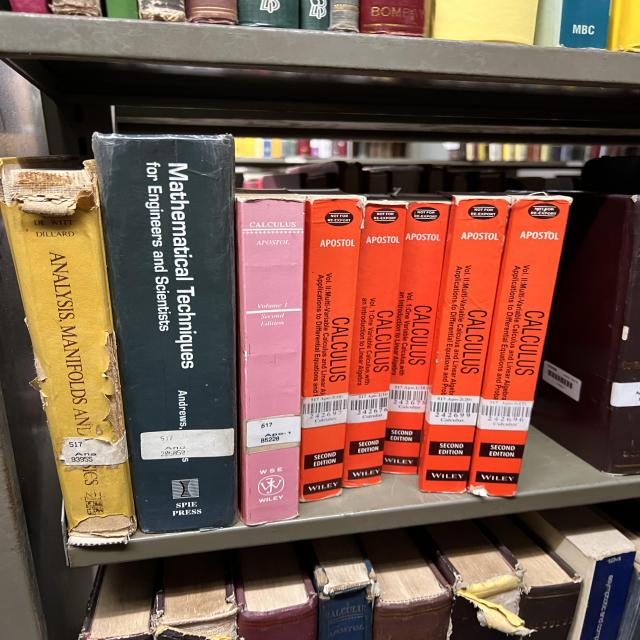Book: (93, 134, 238, 532), (0, 156, 137, 545), (468, 195, 572, 496), (418, 195, 510, 492), (235, 194, 305, 525), (300, 195, 363, 501), (382, 196, 450, 474), (343, 200, 407, 488), (518, 506, 635, 640), (477, 516, 582, 640), (427, 520, 533, 636), (360, 529, 452, 640), (235, 544, 317, 640), (312, 536, 375, 640), (78, 560, 157, 640), (160, 552, 237, 626), (432, 0, 538, 45), (533, 0, 610, 49), (360, 0, 425, 36), (238, 0, 298, 29), (607, 0, 640, 52), (185, 0, 238, 25), (138, 0, 187, 21), (328, 0, 358, 32), (300, 0, 330, 30), (50, 0, 102, 16), (105, 0, 138, 19), (10, 0, 50, 14)
Label: (140, 429, 235, 460), (58, 435, 128, 465), (477, 398, 533, 431), (425, 394, 480, 426), (302, 392, 348, 429), (247, 416, 300, 448), (347, 391, 388, 424), (388, 384, 428, 412), (343, 416, 345, 418)
